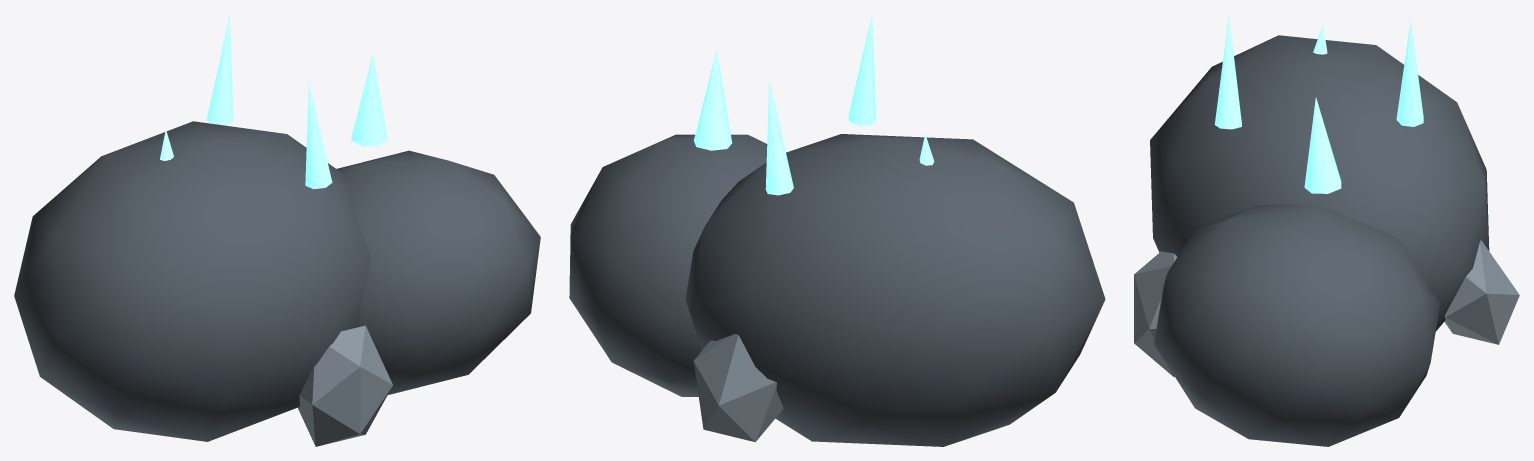
File: commit-ridge-lod1.glb
3 views of the same model, side by side, from view 1: azimuth 30°, elevation 25°; view 2: azimuth 150°, elevation 25°; view 3: azimuth 270°, elevation 25° (orthographic). The views are drawn at different scales.
Visible parts, largest first — view 1: MESH_commit_ridge_rock, MESH_commit_ridge_rockLight, MESH_commit_ridge_crystal; view 2: MESH_commit_ridge_rock, MESH_commit_ridge_rockLight, MESH_commit_ridge_crystal; view 3: MESH_commit_ridge_rock, MESH_commit_ridge_rockLight, MESH_commit_ridge_crystal.
Boxes of the visible parts, box(x1,y1,x2,y2) form: MESH_commit_ridge_rock: box(14, 121, 540, 441); MESH_commit_ridge_rockLight: box(298, 325, 392, 446); MESH_commit_ridge_crystal: box(160, 15, 387, 189); MESH_commit_ridge_rock: box(569, 134, 1105, 446); MESH_commit_ridge_rockLight: box(693, 334, 783, 442); MESH_commit_ridge_crystal: box(693, 15, 934, 195); MESH_commit_ridge_rock: box(1150, 35, 1489, 446); MESH_commit_ridge_rockLight: box(1134, 240, 1519, 376); MESH_commit_ridge_crystal: box(1214, 15, 1423, 193).
Size of the model in its own units: 8.76 by 6.21 by 5.94.
